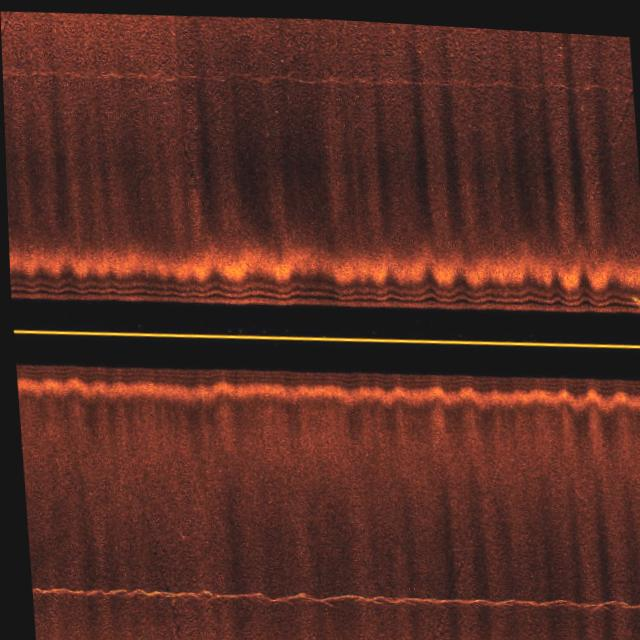other: (622, 282, 640, 306)
